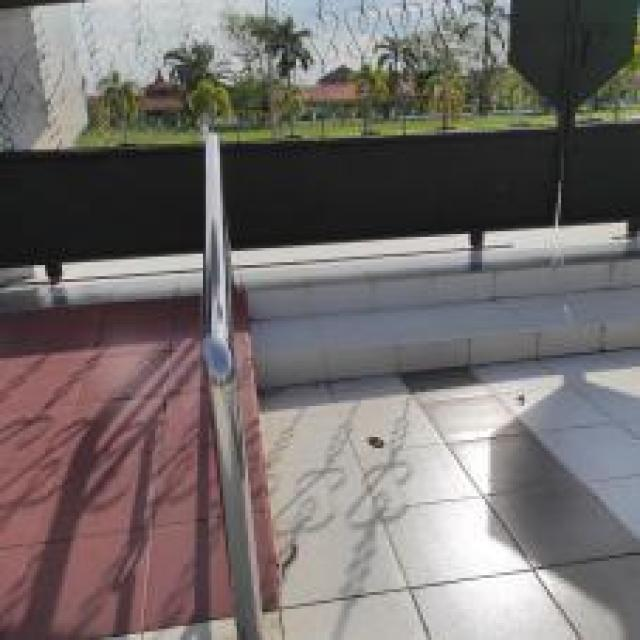upstair: (232, 255, 638, 390)
